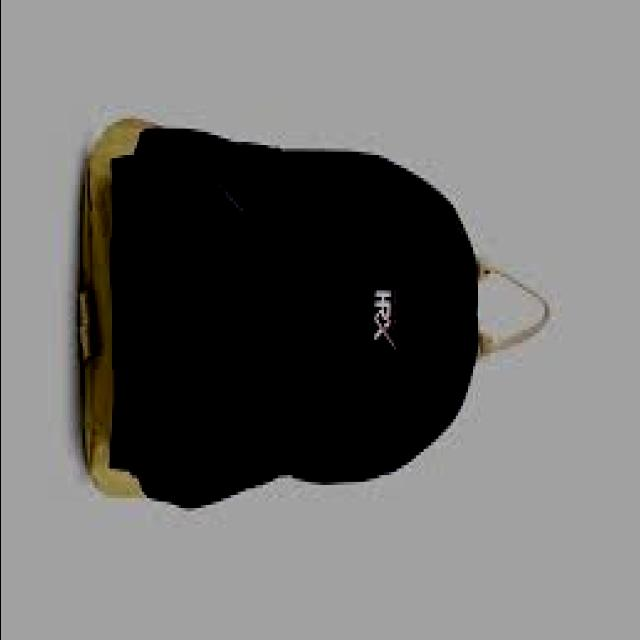backpack: (80, 117, 552, 509)
